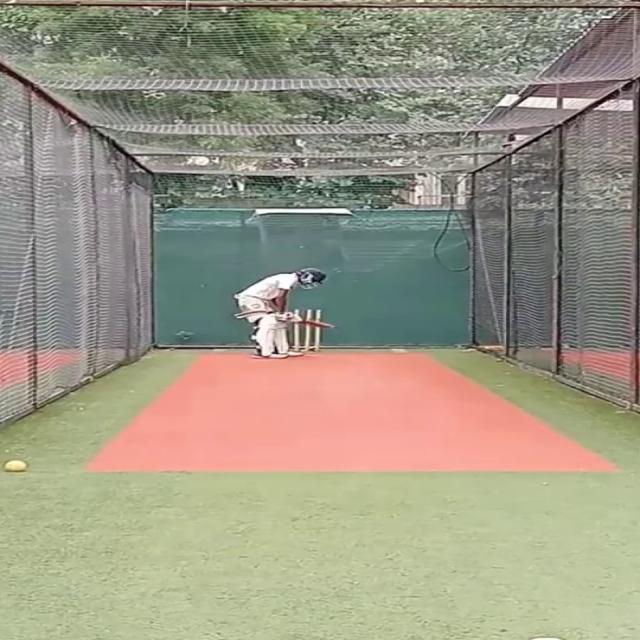ball: (6, 457, 31, 475)
stump: (292, 308, 324, 352)
